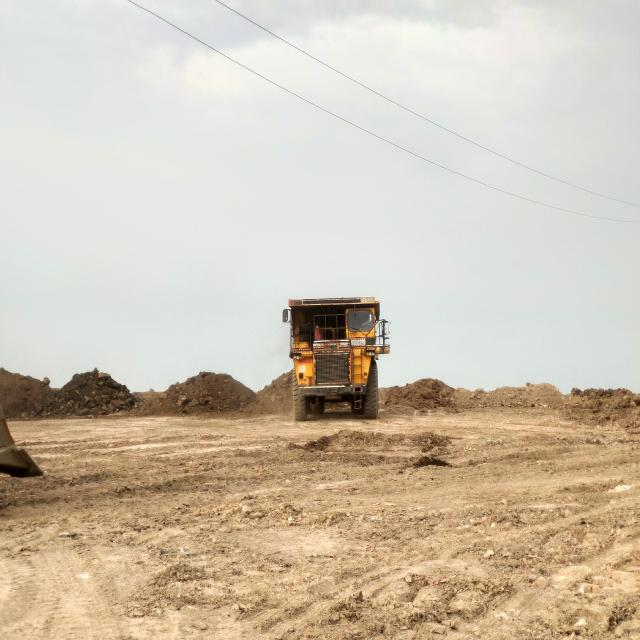dump_truck: (282, 297, 390, 420)
